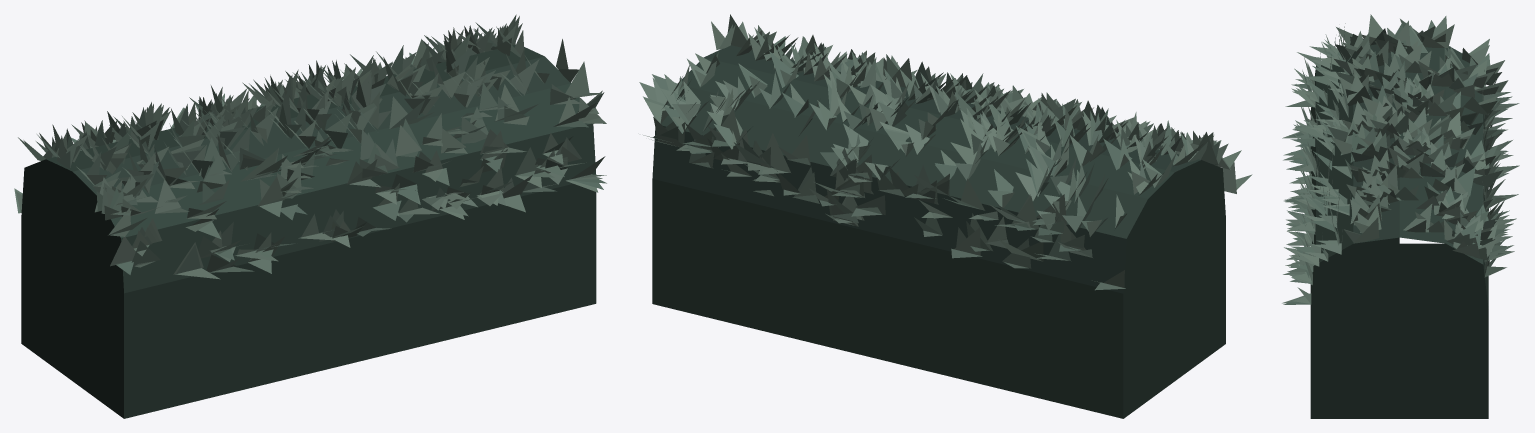
File: hieda_hedge_a.glb
The picture shows the model from 3 angles, left to right: view 1: azimuth 30°, elevation 25°; view 2: azimuth 150°, elevation 25°; view 3: azimuth 270°, elevation 25°; orthographic projection. The views are drawn at different scales.
Parts seen in each view (by area): view 1: hieda_hedge_a; view 2: hieda_hedge_a; view 3: hieda_hedge_a.
Boxes of the visible parts, x1,y1,x2,y2 form: hieda_hedge_a: [14, 14, 606, 418]; hieda_hedge_a: [639, 14, 1252, 418]; hieda_hedge_a: [1282, 14, 1519, 418].
Size of the model in its own units: 2.63 by 1.19 by 1.24.
